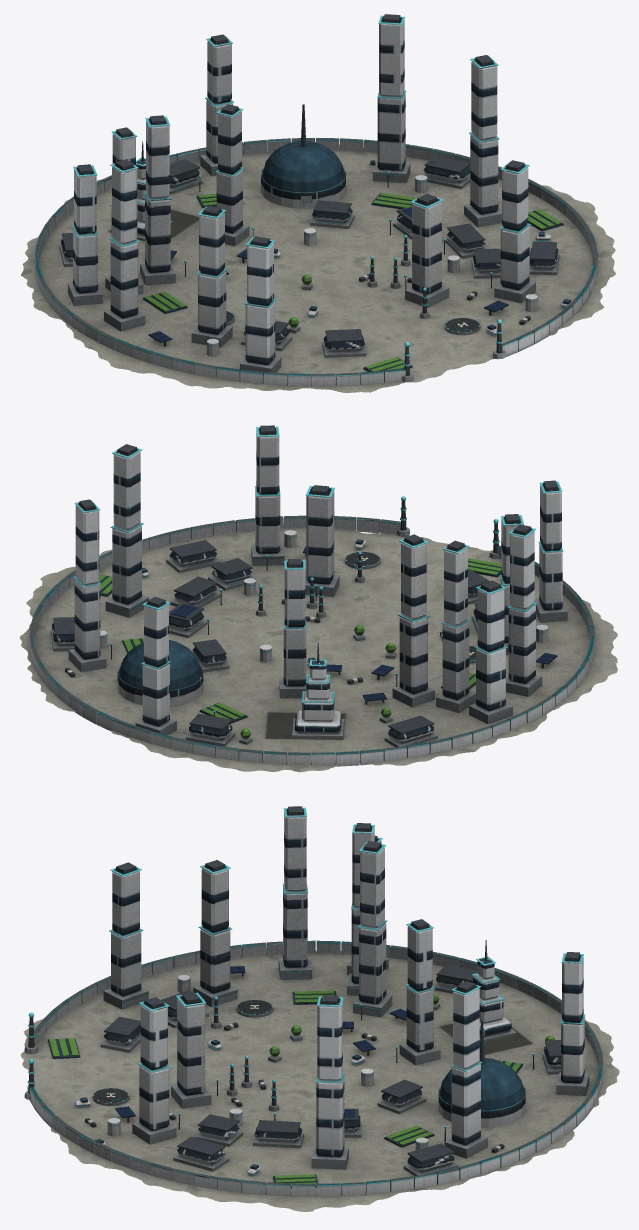
File: future-town-big-b.glb
3 renders of one model, top to bottom at view 1: azimuth 30°, elevation 25°; view 2: azimuth 150°, elevation 25°; view 3: azimuth 270°, elevation 25°, orthographic. The views are drawn at different scales.
Parts seen in each view (by area): view 1: LOD0; view 2: LOD0; view 3: LOD0.
Part boxes in pixels (x1,y1,x2,y2): LOD0: (21,14,615,392); LOD0: (20,425,617,772); LOD0: (20,806,619,1211).
Size of what is drawn, in the model's own units: 8.04 by 2.3 by 7.65.
Materials: 3 (3 with a texture image).
